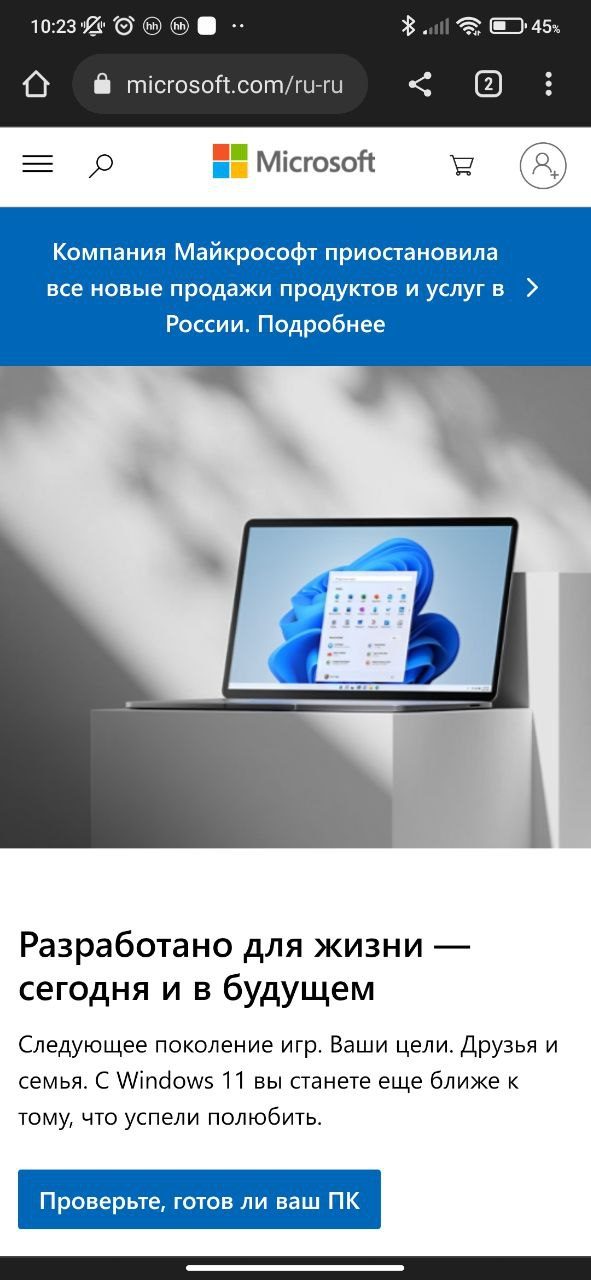burger_menu: (18, 151, 59, 177)
